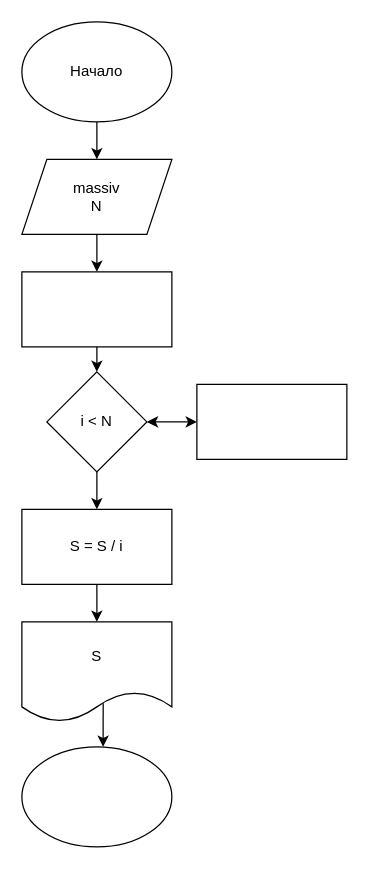
The diagram is 369 pixels wide and 869 high, and some of its shapes have lost their labels. Each missing label, with the centre of its shape:
i = 0 S = 0: the point at 96,309
S = S + a[i] i = i + 1: the point at 271,421
Коней: the point at 96,796
